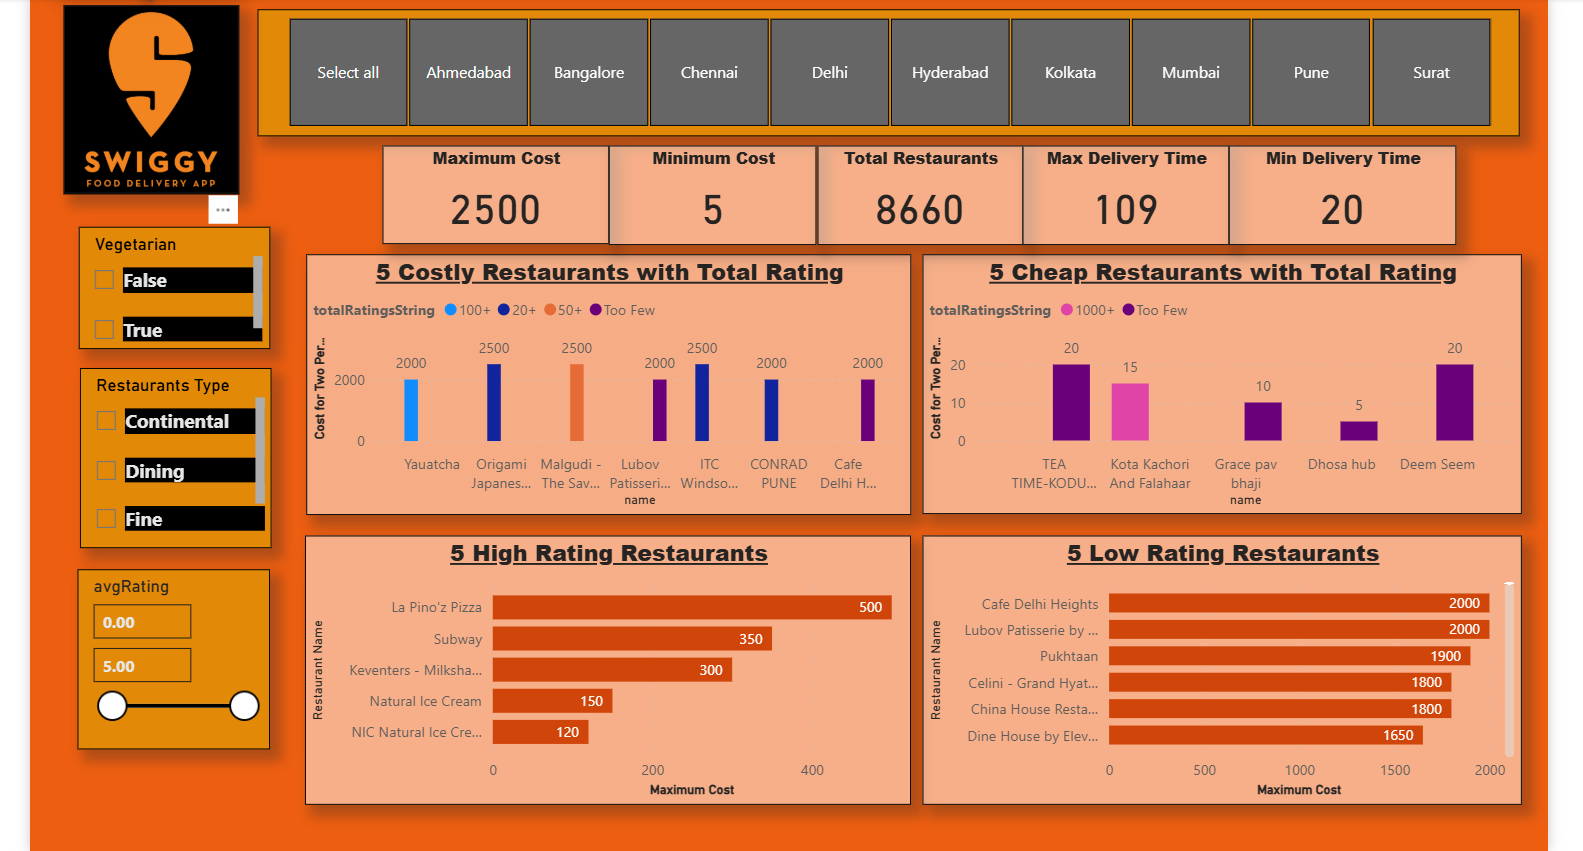

This screenshot's page, from the dashboard's own definition file:
{"tool":"powerbi","page":{"name":"Swiggy Metro-cities","canvas":[1280,720],"ordinal":0},"visuals":[{"type":"clusteredColumnChart","title":"5 Costly Restaurants with Total Rating","fields":{"Category":["Swiggy_Final_Data.name"],"Series":["Swiggy_Final_Data.totalRatingsString"],"Y":["Sum(Swiggy_Final_Data.Cost for Two Person)"]},"box":[232.6,216.3,510.5,219.8],"z":0},{"type":"clusteredColumnChart","title":"5 Cheap Restaurants with Total Rating","fields":{"Category":["Swiggy_Final_Data.name"],"Series":["Swiggy_Final_Data.totalRatingsString"],"Y":["Sum(Swiggy_Final_Data.Cost for Two Person)"]},"box":[753.4,215.9,505.7,219.3],"z":1000},{"type":"slicer","fields":{"Values":["Swiggy_Final_Data.city"]},"box":[191.9,9.3,1065.1,107],"z":2000},{"type":"slicer","fields":{"Values":["Swiggy_Final_Data.Vegetarian"]},"box":[40.9,193.2,161.4,103.4],"z":3000},{"type":"slicer","fields":{"Values":["Swiggy_Final_Data.Restaurants Type"]},"box":[41.9,311.6,161.6,152.3],"z":4000},{"type":"slicer","fields":{"Values":["Swiggy_Final_Data.avgRating"]},"box":[39.8,481.8,162.5,152.3],"z":5000},{"type":"clusteredBarChart","title":"5 High Rating Restaurants","fields":{"Category":["Swiggy_Final_Data.name"],"Y":["Max(Swiggy_Final_Data.Cost for Two Person)"]},"box":[231.8,453.4,511.4,227.3],"z":6000},{"type":"clusteredBarChart","title":"5 Low Rating Restaurants","fields":{"Category":["Swiggy_Final_Data.name"],"Y":["Max(Swiggy_Final_Data.Cost for Two Person)"]},"box":[753.4,453.4,505.7,227.3],"z":7000},{"type":"card","title":"Maximum Cost","fields":{"Values":["Max(Swiggy_Final_Data.Cost for Two Person)"]},"box":[297,124.2,190.8,83.6],"z":8000},{"type":"card","title":"Minimum Cost","fields":{"Values":["Min(Swiggy_Final_Data.Cost for Two Person)"]},"box":[488.4,124.4,175.6,83.7],"z":9000},{"type":"image","box":[28.2,6.8,147.9,159.2],"z":10000},{"type":"card","title":"Total Restaurants","fields":{"Values":["CountNonNull(Swiggy_Final_Data.id)"]},"box":[664,124.4,173.3,83.7],"z":11000},{"type":"card","title":"Max Delivery Time","fields":{"Values":["Max(Swiggy_Final_Data.maxDeliveryTime)"]},"box":[837.2,124.4,174.4,83.7],"z":12000},{"type":"card","title":"Min Delivery Time","fields":{"Values":["Min(Swiggy_Final_Data.minDeliveryTime)"]},"box":[1011.6,124.4,191.9,83.7],"z":13000}]}

Visuals, with their boxes in screenshot pixels (x1, y1, x2, y2):
"5 Costly Restaurants with Total Rating" clusteredColumnChart: Rect(305, 261, 921, 526)
"5 Cheap Restaurants with Total Rating" clusteredColumnChart: Rect(933, 260, 1543, 525)
slicer - Swiggy_Final_Data.city: Rect(256, 11, 1541, 140)
slicer - Swiggy_Final_Data.Vegetarian: Rect(74, 233, 269, 358)
slicer - Swiggy_Final_Data.Restaurants Type: Rect(75, 376, 270, 559)
slicer - Swiggy_Final_Data.avgRating: Rect(73, 581, 269, 765)
"5 High Rating Restaurants" clusteredBarChart: Rect(304, 547, 921, 821)
"5 Low Rating Restaurants" clusteredBarChart: Rect(933, 547, 1543, 821)
"Maximum Cost" card: Rect(383, 150, 613, 251)
"Minimum Cost" card: Rect(614, 150, 825, 251)
image: Rect(59, 8, 237, 200)
"Total Restaurants" card: Rect(825, 150, 1034, 251)
"Max Delivery Time" card: Rect(1034, 150, 1245, 251)
"Min Delivery Time" card: Rect(1245, 150, 1476, 251)
